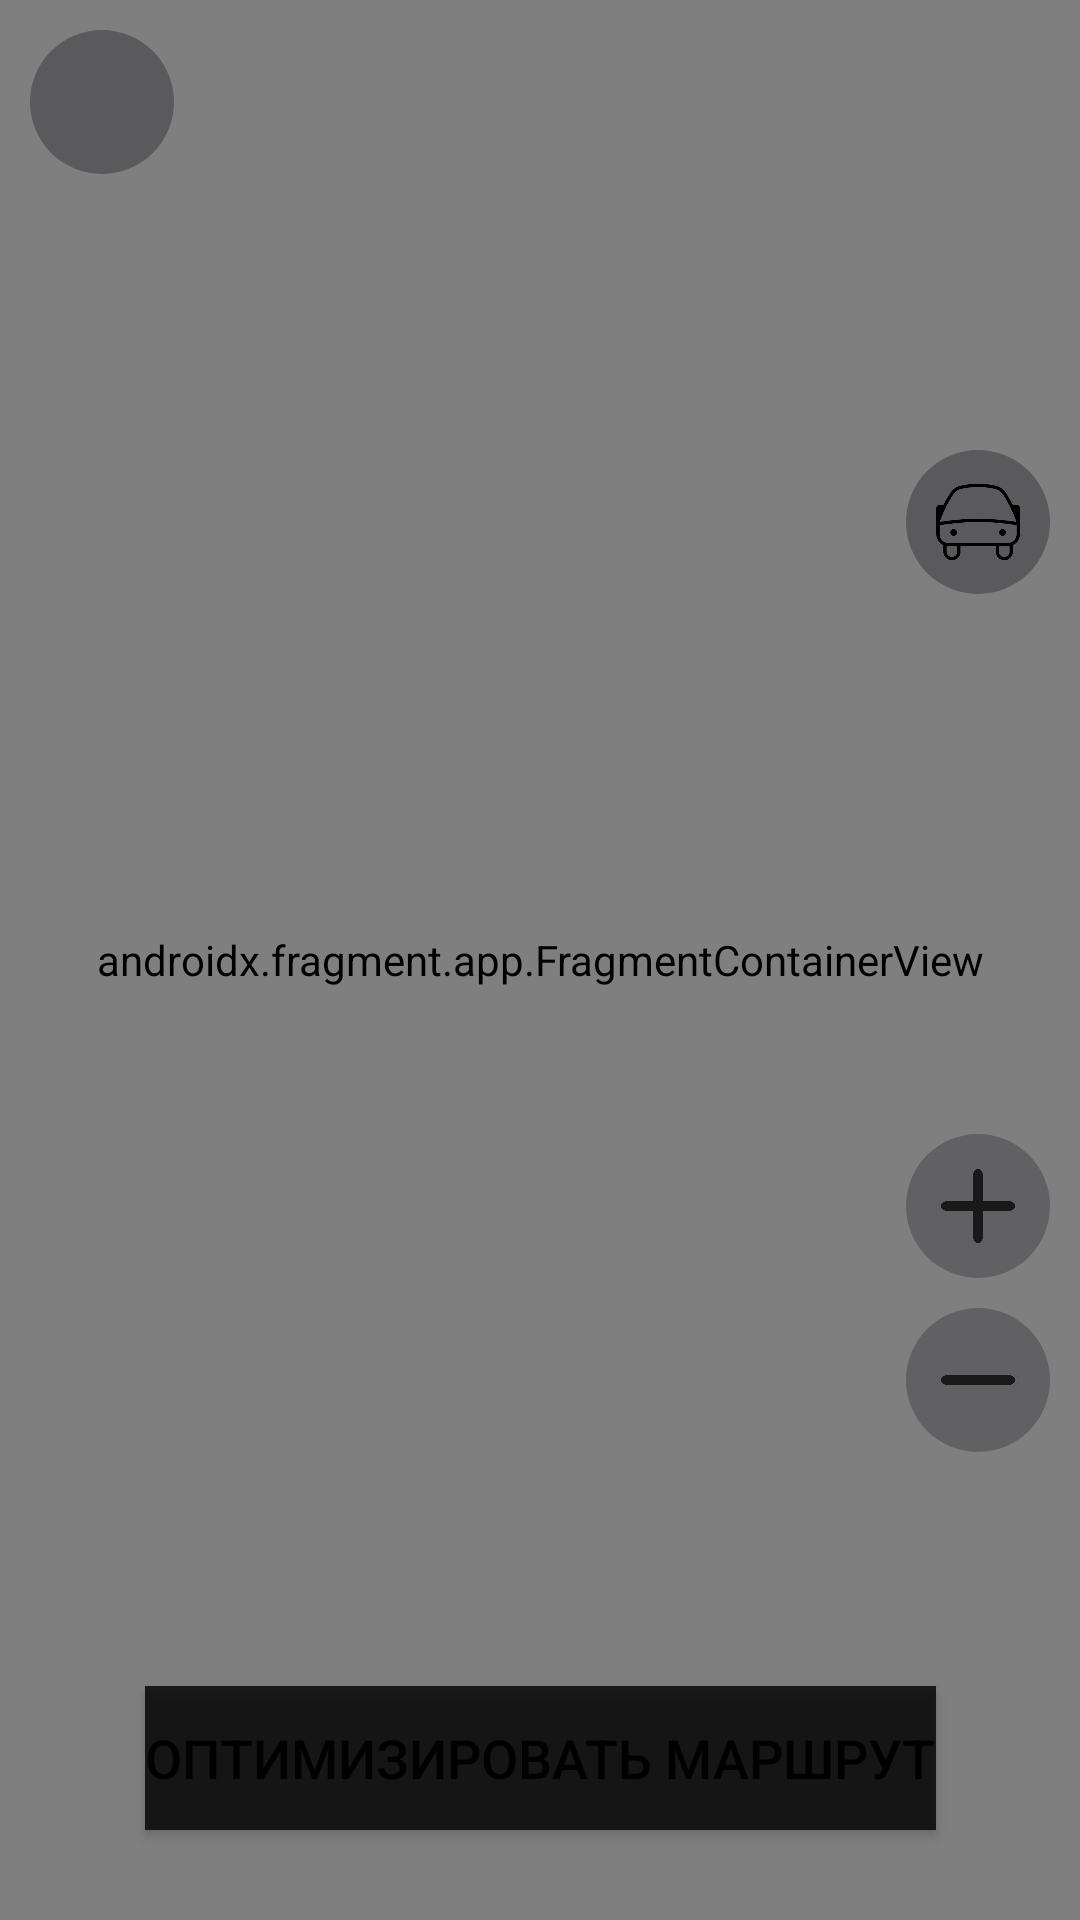

Where icons sit on this 1080 x 1920 app screen, as (x1, y1, x2, y2):
Дорожный трафик: (906, 450, 1050, 594)
Минус: (906, 1308, 1050, 1452)
Плюс: (906, 1134, 1050, 1278)
